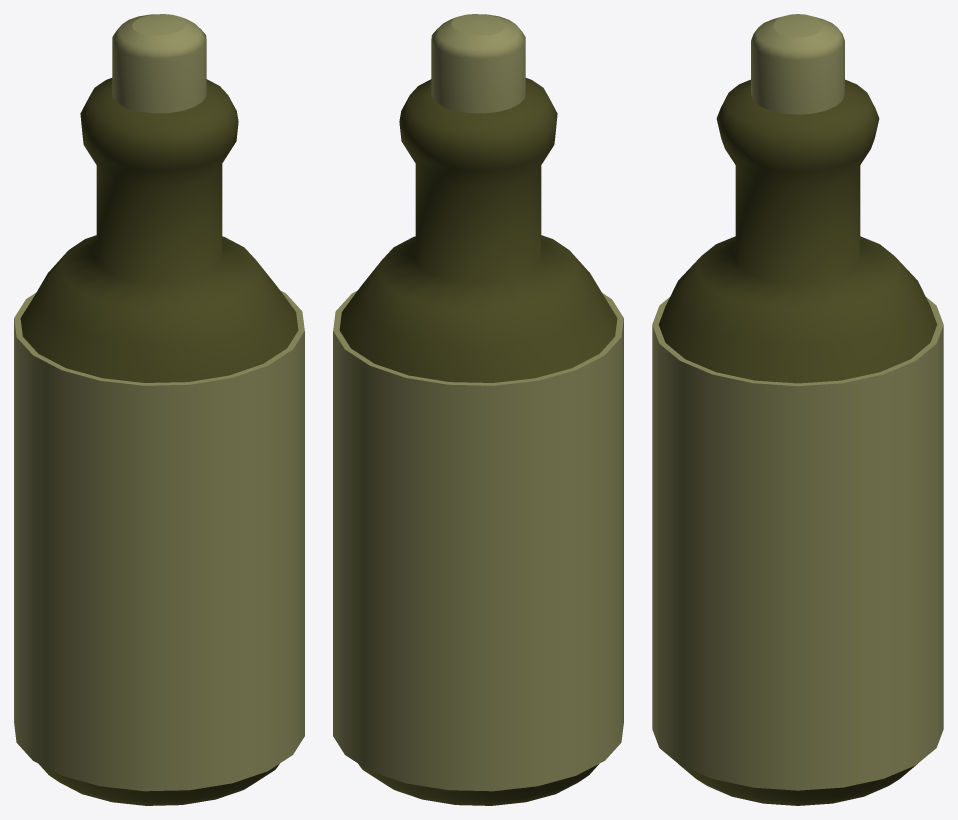
Rendered from bottle.fbx.
3 renders of one model, left to right at view 1: azimuth 30°, elevation 25°; view 2: azimuth 150°, elevation 25°; view 3: azimuth 270°, elevation 25°, orthographic.
Visible parts, largest first — view 1: pCylinder1; view 2: pCylinder1; view 3: pCylinder1.
Boxes of the visible parts, x1,y1,x2,y2 form: pCylinder1: (14,14,304,805); pCylinder1: (333,14,623,805); pCylinder1: (652,14,943,805).
Bounding box in the file's own units: 2.09 × 5.82 × 2.09.
1 material, 1 textured.
